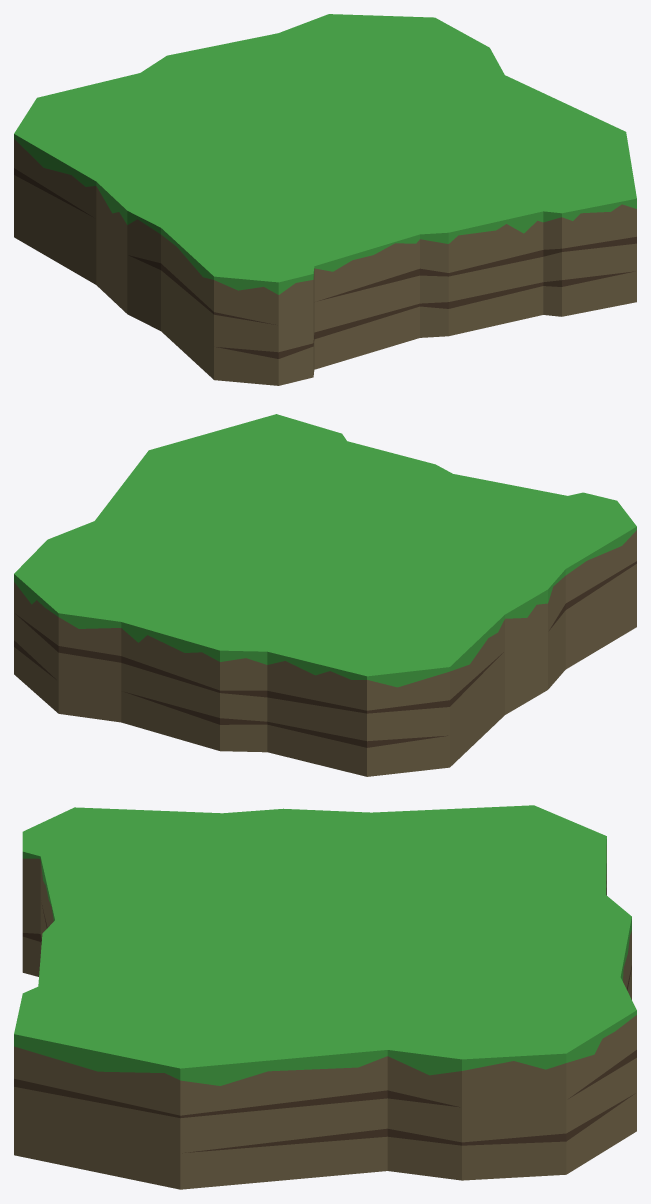
File: Ground_11.FBX
3 renders of one model, top to bottom at view 1: azimuth 30°, elevation 25°; view 2: azimuth 150°, elevation 25°; view 3: azimuth 270°, elevation 25°, orthographic. The views are drawn at different scales.
Parts seen in each view (by area): view 1: Ground_11; view 2: Ground_11; view 3: Ground_11.
Boxes of the visible parts, x1,y1,x2,y2 form: Ground_11: [14, 14, 636, 385]; Ground_11: [14, 414, 636, 776]; Ground_11: [14, 805, 636, 1189].
Size of the model in its own units: 13.98 by 3 by 13.98.
